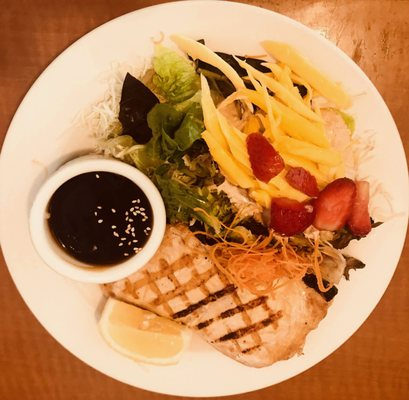sushi: (27, 158, 167, 285)
